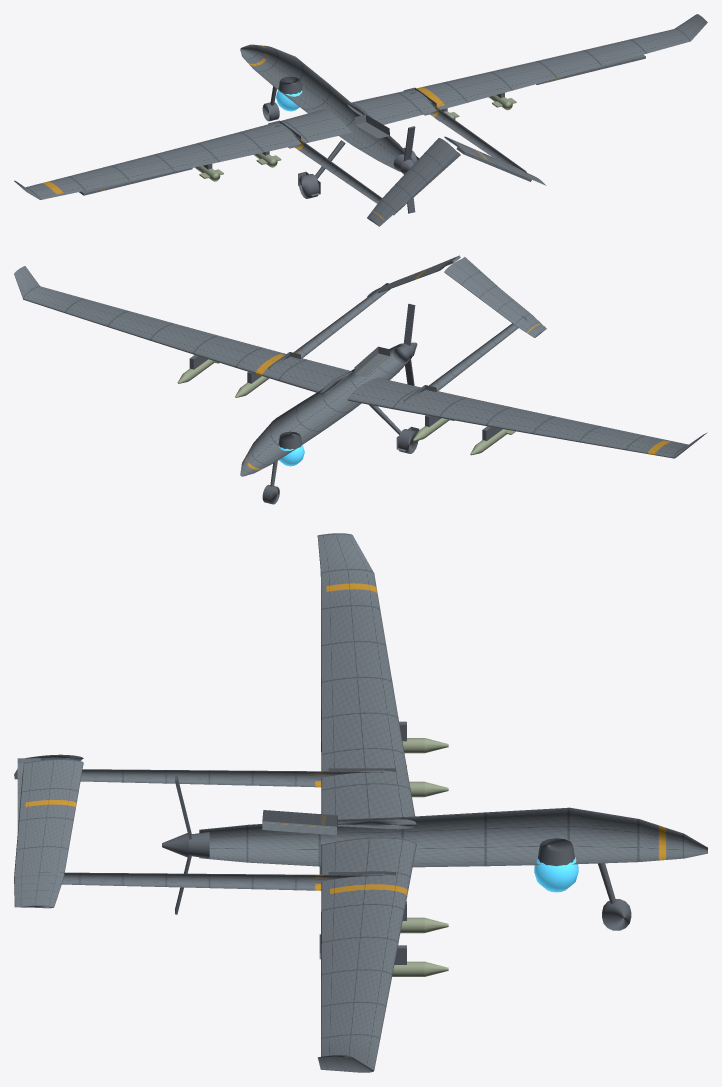
Rendered from bayraktar_tb2_lod0.glb.
3 views of the same model, one above another, from view 1: azimuth 30°, elevation 25°; view 2: azimuth 150°, elevation 25°; view 3: azimuth 270°, elevation 25° (orthographic). The views are drawn at different scales.
Parts seen in each view (by area): view 1: airframe_hull, propeller_assembly, aileron_port, aileron_stbd; view 2: airframe_hull, propeller_assembly; view 3: airframe_hull, eoir_turret, propeller_assembly.
Boxes of the visible parts, x1,y1,x2,y2 form: airframe_hull: (14, 14, 707, 226); propeller_assembly: (400, 126, 415, 213); aileron_port: (79, 168, 192, 195); aileron_stbd: (536, 54, 645, 84); airframe_hull: (14, 257, 707, 504); propeller_assembly: (403, 303, 417, 385); airframe_hull: (14, 533, 707, 1072); eoir_turret: (534, 857, 578, 892); propeller_assembly: (162, 775, 191, 914).
Bounding box in the file's own units: 11.9 × 1.83 × 6.69.
4 materials, 1 textured.
